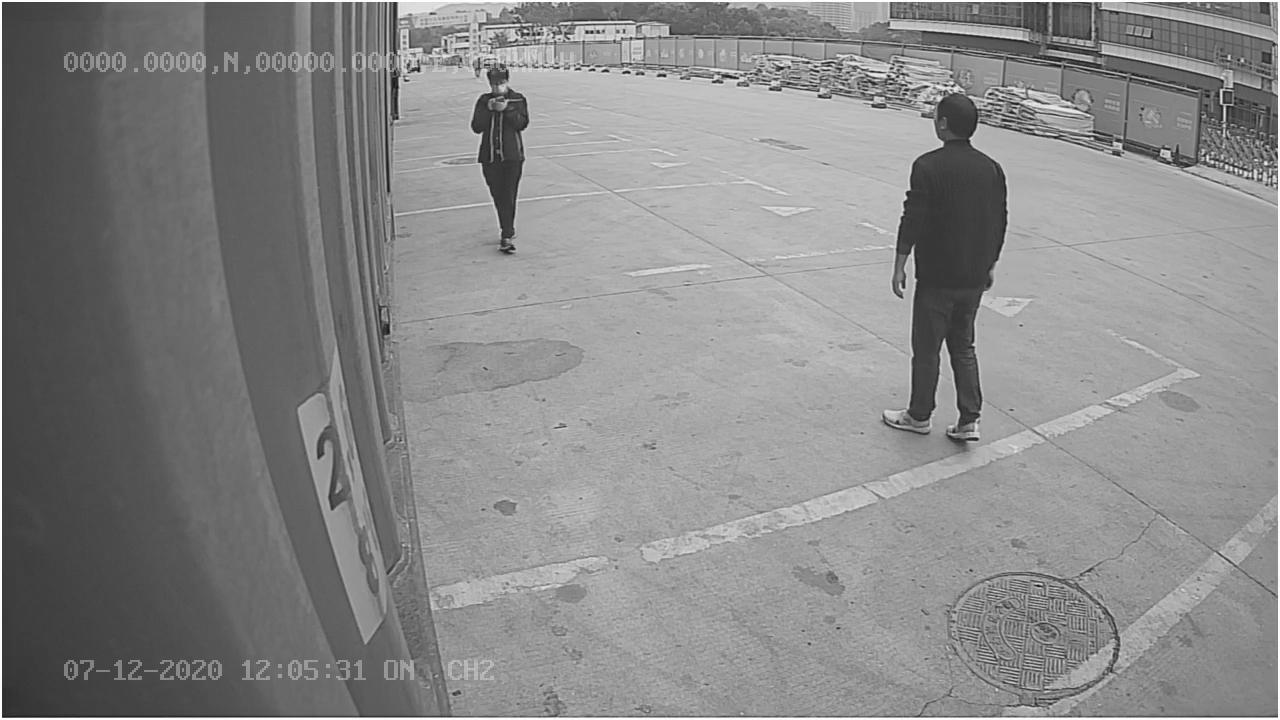person: (856, 84, 1007, 450)
